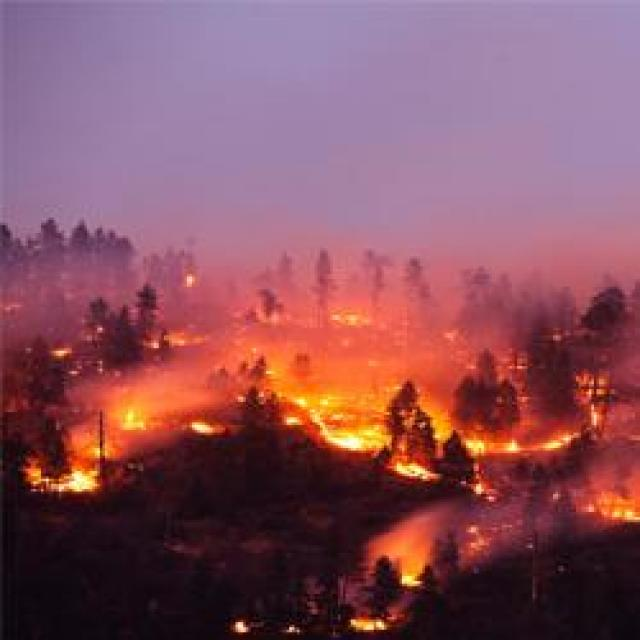fire: (336, 428, 371, 449), (301, 398, 327, 422), (538, 436, 566, 452), (464, 435, 487, 454), (173, 332, 202, 347), (124, 404, 142, 428), (341, 310, 366, 327), (193, 419, 216, 436), (612, 506, 636, 522), (356, 616, 381, 630), (181, 272, 199, 287), (72, 476, 92, 488), (506, 439, 519, 456), (403, 466, 424, 476), (50, 350, 71, 357), (405, 577, 418, 583)
smoke: (549, 160, 630, 268), (252, 192, 313, 245), (172, 198, 221, 245), (150, 366, 188, 403), (473, 238, 519, 266), (339, 356, 358, 374)
